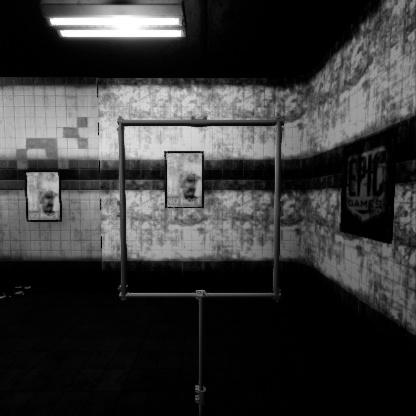gate: (118, 114, 299, 298)
